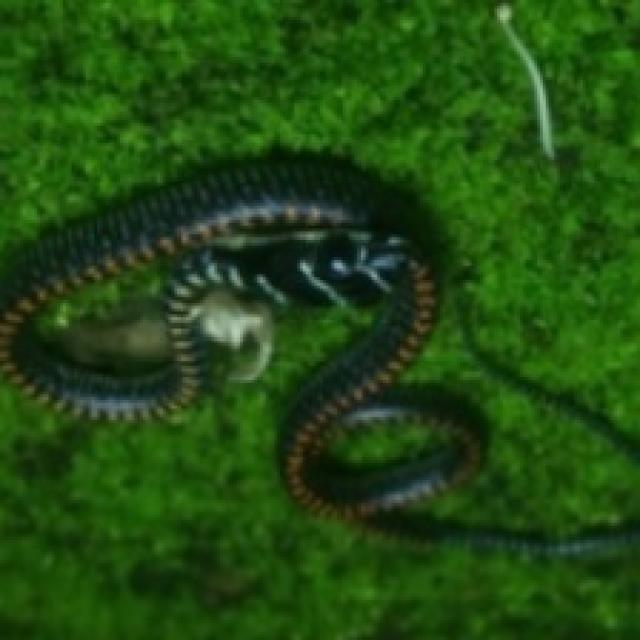paradise tree snake: (0, 0, 637, 534), (0, 157, 637, 637), (0, 386, 314, 537)
